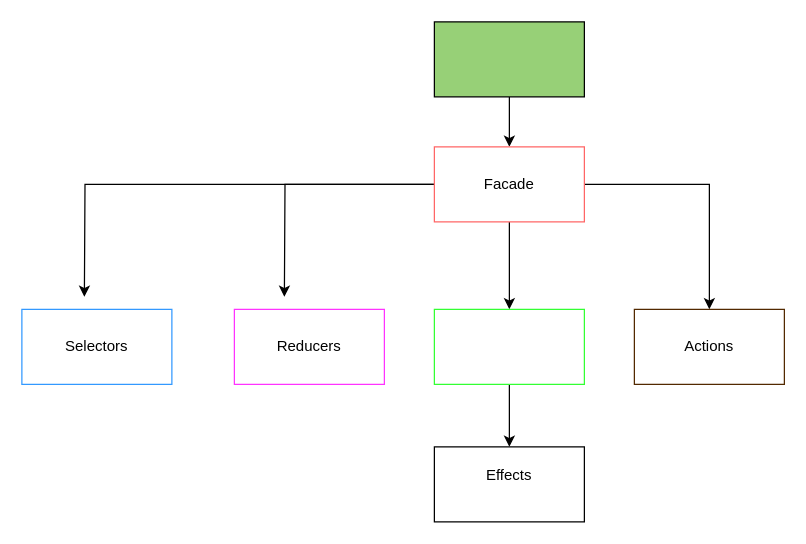
The diagram is 806 pixels wide and 544 high, and some of its shapes have lost their labels. Here are the shapes that lost their labels. From the top down, the box of each, then its label:
(433, 21, 584, 97): Component
(433, 308, 584, 384): Store
